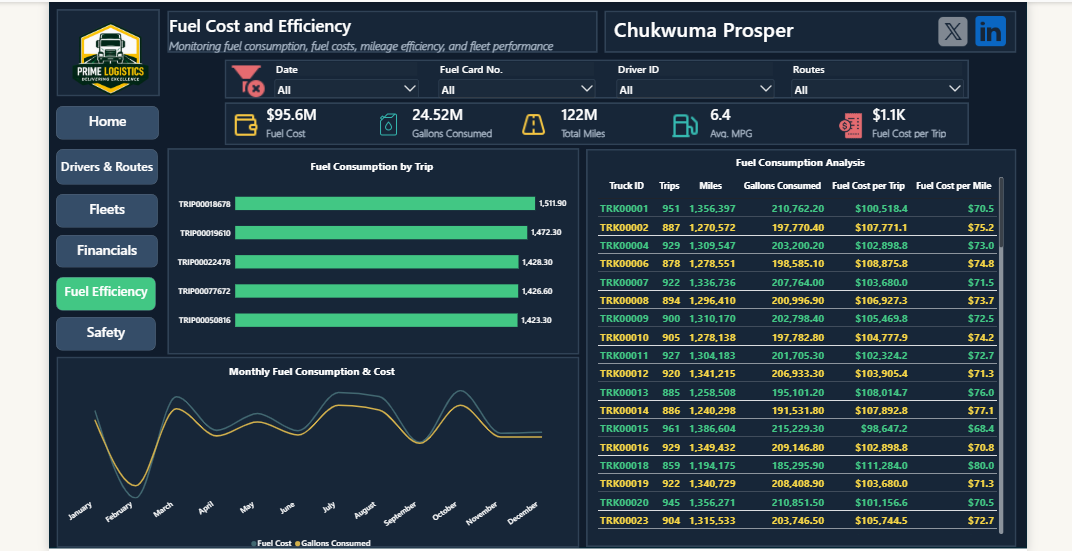

This screenshot's page, from the dashboard's own definition file:
{"tool":"powerbi","page":{"name":"Fuel Efficiency","canvas":[1920,1080],"ordinal":4},"visuals":[{"type":"textbox","title":"Fuel Cost and Efficiency","box":[235.4,22.7,840.3,82.6],"z":0},{"type":"image","title":"Clear File","box":[351,113.5,72.3,74.3],"z":1000},{"type":"image","box":[1806.5,21.6,84.4,70.7],"z":2000},{"type":"cardVisual","fields":{"Data":["fuel_purchases.Fuel Cost"]},"box":[410,204.4,198.6,72.3],"z":2000,"group":"g1"},{"type":"image","box":[1726,23.6,98.2,68.7],"z":3000},{"type":"cardVisual","fields":{"Data":["fuel_purchases.Avg. MPG"]},"box":[1282.2,204.4,237.9,72.3],"z":3000,"group":"g1"},{"type":"actionButton","box":[14.5,377.8,200.3,66.1],"z":4000},{"type":"actionButton","box":[14.5,540.9,196.1,66.1],"z":5000},{"type":"cardVisual","fields":{"Data":["fuel_purchases.Gallons Consumed"]},"box":[696,204.4,190.7,72.3],"z":6000,"group":"g1"},{"type":"actionButton","box":[14.5,458.3,200.3,64],"z":6000},{"type":"actionButton","box":[14.5,619.4,196.1,66.1],"z":7000},{"type":"actionButton","box":[14.5,287.8,200.3,70.2],"z":8000},{"type":"actionButton","box":[14.5,204.4,202.3,66.1],"z":9000},{"type":"cardVisual","fields":{"Data":["truck_utilization_metrics.Total Miles"]},"box":[989.9,204.4,198.6,72.3],"z":9000,"group":"g1"},{"type":"textbox","title":"Chukwuma Prosper","box":[1108.6,24.8,491.4,64],"z":10000},{"type":"image","box":[18.6,24.8,196.1,167.2],"z":11000},{"type":"group","id":"g1","title":"Group 7","box":[351,204.4,1451.4,72.3],"z":13000},{"type":"tableEx","title":"Fuel Consumption Analysis","fields":{"Values":["trucks.truck_id","trips.Total Trips","truck_utilization_metrics.Total Miles","Sum(trips.fuel_gallons_used)","fuel_purchases.Fuel Cost per Trip","fuel_purchases.Fuel Cost per Mile"]},"box":[1061.2,287,829.9,774.2],"z":14000},{"type":"lineChart","title":"Monthly Fuel Consumption & Cost","fields":{"Category":["fuel_purchases.purchase_date.Variation.Date Hierarchy.Month"],"Y":["fuel_purchases.Fuel Cost"],"Y2":["fuel_purchases.Gallons Consumed"]},"box":[18.6,701.9,997.2,377.8],"z":15000},{"type":"image","box":[635,215.7,61,48.8],"z":16000,"group":"g1"},{"type":"barChart","title":"Fuel Consumption by Trip","fields":{"Category":["fuel_purchases.trip_id"],"Y":["fuel_purchases.Gallons Consumed"]},"box":[235.4,299.4,796.9,377.8],"z":16000},{"type":"slicer","fields":{"Values":["fuel_purchases.fuel_card_number"]},"box":[759.9,117.8,318.1,70.7],"z":16001},{"type":"slicer","fields":{"Values":["drivers.driver_id"]},"box":[1109.5,117.8,320.1,72.7],"z":16002},{"type":"slicer","fields":{"Values":["routes.Routes"]},"box":[1453.1,117.8,347.6,68.7],"z":16003},{"type":"slicer","fields":{"Values":["fuel_purchases.purchase_date.Variation.Date Hierarchy.Year","fuel_purchases.purchase_date.Variation.Date Hierarchy.Month"]},"box":[437.9,117.8,292.6,68.7],"z":16004},{"type":"cardVisual","fields":{"Data":["fuel_purchases.Fuel Cost per Trip"]},"box":[1599.9,204.4,200.4,72.3],"z":17000,"group":"g2"},{"type":"image","box":[913.2,215.7,76.7,48.8],"z":18000,"group":"g1"},{"type":"image","box":[1214.9,215.7,66.9,54.2],"z":19000,"group":"g1"},{"type":"image","box":[1546.6,215.7,53.7,54.1],"z":20000,"group":"g2"},{"type":"image","box":[351,215.7,68.8,50.8],"z":26000,"group":"g1"},{"type":"group","id":"g2","title":"Group 2","box":[1546.6,204.4,253.7,72.3],"z":26007,"group":"g1"}]}

Visuals, with their boxes on the page's 1920x1080 design canvas (x1, y1, x2, y2). These are canvas units, not pixel positions in the 1072x551 screenshot, which may show the page scaled, cropped or inside an application window:
"Fuel Cost and Efficiency" textbox: x1=235, y1=23, x2=1076, y2=105
"Clear File" image: x1=351, y1=114, x2=423, y2=188
image: x1=1806, y1=22, x2=1891, y2=92
cardVisual - fuel_purchases.Fuel Cost: x1=410, y1=204, x2=609, y2=277
image: x1=1726, y1=24, x2=1824, y2=92
cardVisual - fuel_purchases.Avg. MPG: x1=1282, y1=204, x2=1520, y2=277
actionButton: x1=14, y1=378, x2=215, y2=444
actionButton: x1=14, y1=541, x2=211, y2=607
cardVisual - fuel_purchases.Gallons Consumed: x1=696, y1=204, x2=887, y2=277
actionButton: x1=14, y1=458, x2=215, y2=522
actionButton: x1=14, y1=619, x2=211, y2=686
actionButton: x1=14, y1=288, x2=215, y2=358
actionButton: x1=14, y1=204, x2=217, y2=270
cardVisual - truck_utilization_metrics.Total Miles: x1=990, y1=204, x2=1188, y2=277
"Chukwuma Prosper" textbox: x1=1109, y1=25, x2=1600, y2=89
image: x1=19, y1=25, x2=215, y2=192
"Group 7" group: x1=351, y1=204, x2=1802, y2=277
"Fuel Consumption Analysis" tableEx: x1=1061, y1=287, x2=1891, y2=1061
"Monthly Fuel Consumption & Cost" lineChart: x1=19, y1=702, x2=1016, y2=1080
image: x1=635, y1=216, x2=696, y2=264
"Fuel Consumption by Trip" barChart: x1=235, y1=299, x2=1032, y2=677
slicer - fuel_purchases.fuel_card_number: x1=760, y1=118, x2=1078, y2=188
slicer - drivers.driver_id: x1=1110, y1=118, x2=1430, y2=190
slicer - routes.Routes: x1=1453, y1=118, x2=1801, y2=186
slicer - fuel_purchases.purchase_date.Variation.Date Hierarchy.Year x fuel_purchases.purchase_date.Variation.Date Hierarchy.Month: x1=438, y1=118, x2=730, y2=186
cardVisual - fuel_purchases.Fuel Cost per Trip: x1=1600, y1=204, x2=1800, y2=277
image: x1=913, y1=216, x2=990, y2=264
image: x1=1215, y1=216, x2=1282, y2=270
image: x1=1547, y1=216, x2=1600, y2=270
image: x1=351, y1=216, x2=420, y2=266
"Group 2" group: x1=1547, y1=204, x2=1800, y2=277
